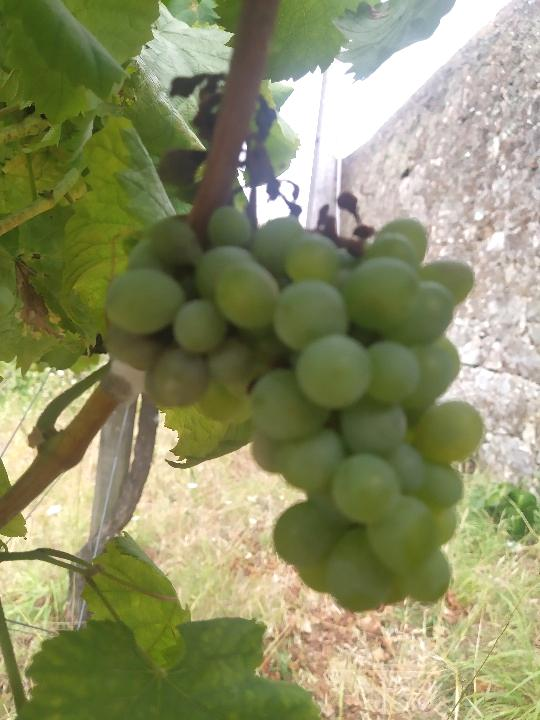grape: (100, 71, 488, 615)
